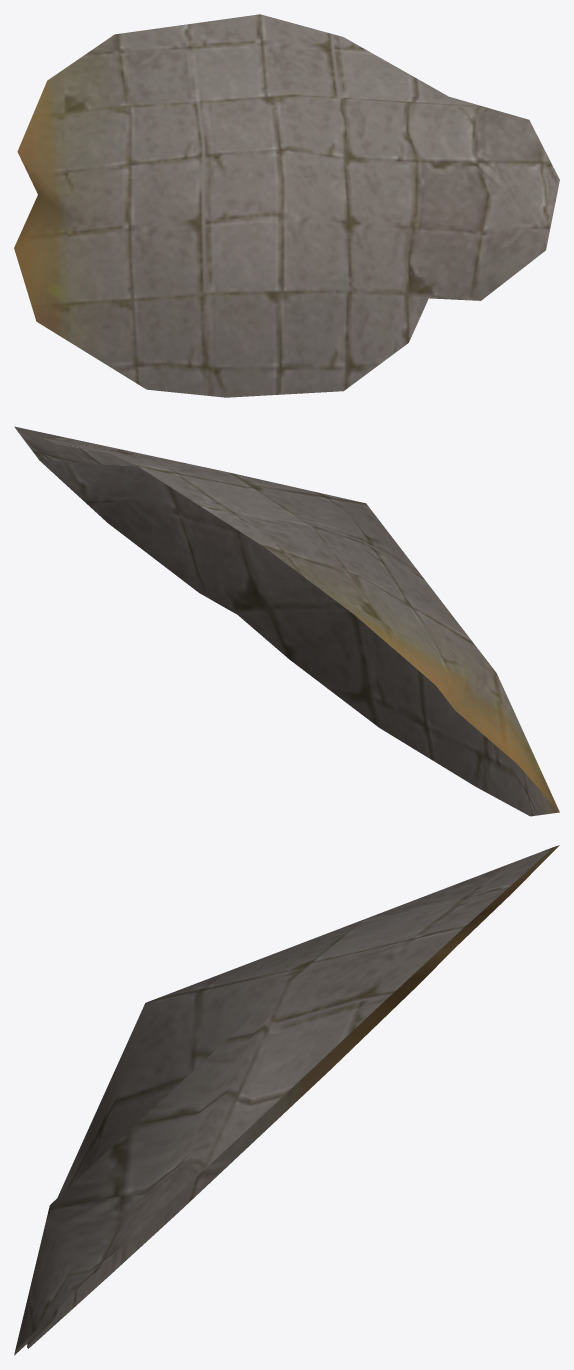
File: map_plain_road21.FBX
3 renders of one model, top to bottom at view 1: azimuth 30°, elevation 25°; view 2: azimuth 150°, elevation 25°; view 3: azimuth 270°, elevation 25°, orthographic. The views are drawn at different scales.
Visible parts, largest first — view 1: Plane123; view 2: Plane123; view 3: Plane123.
Part boxes in pixels (x1,y1,x2,y2): Plane123: (14,14,559,397); Plane123: (14,426,559,816); Plane123: (14,845,559,1355).
Size of the model in its own units: 2.54 by 1.58 by 1.48.
